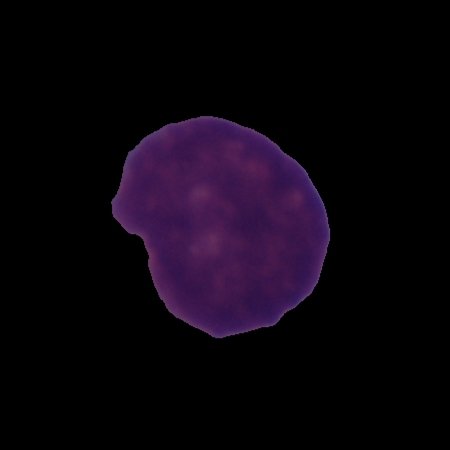ALL: (107, 111, 334, 341)
